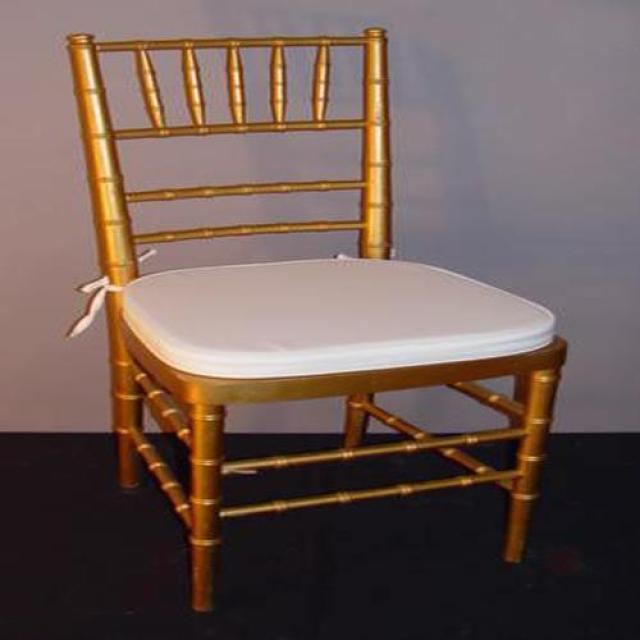chair: (67, 28, 568, 614)
